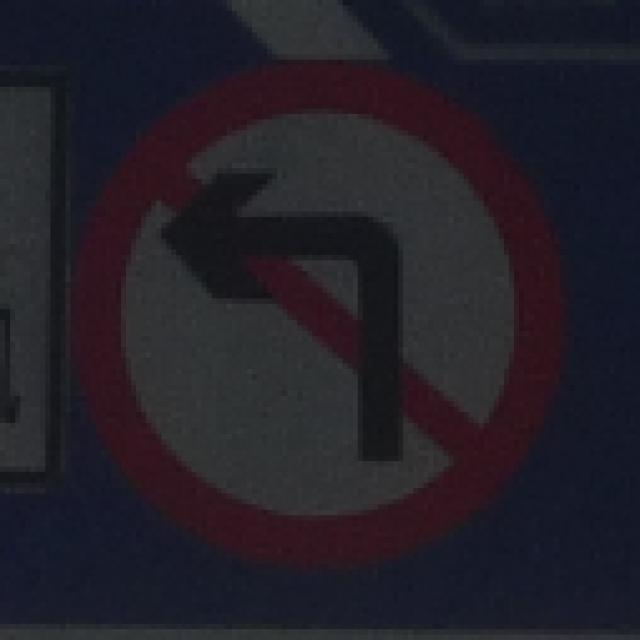Not that Direction: (79, 53, 571, 561)
